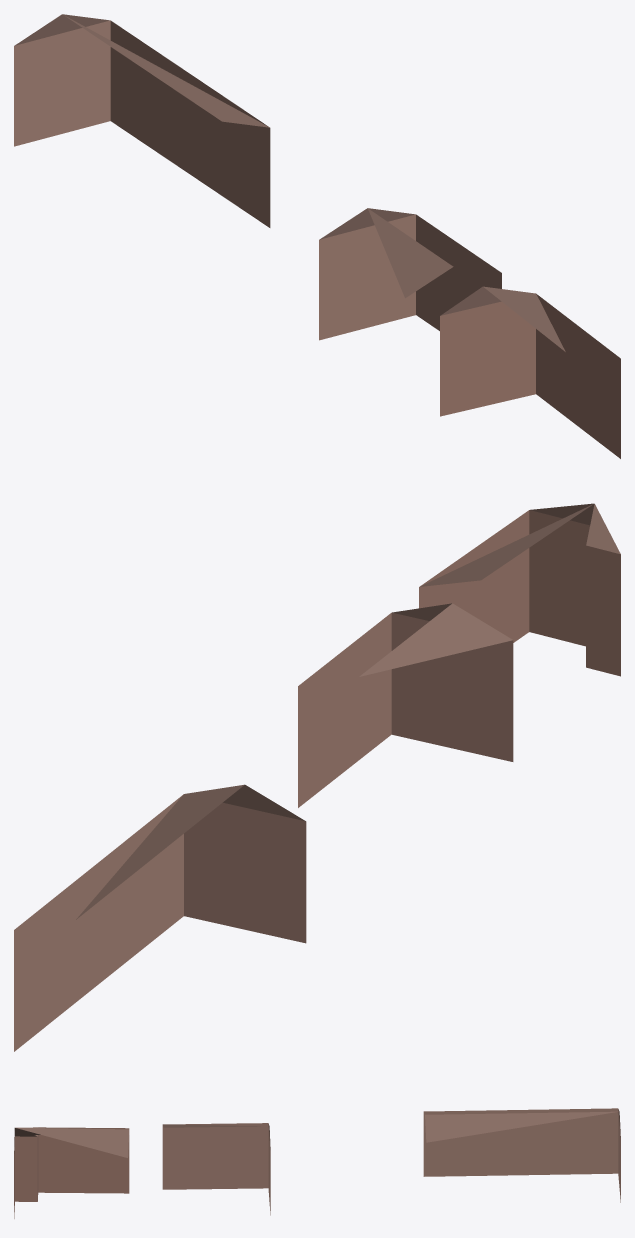
Rendered from c_1637_17819_buildings_residential.glb.
3 renders of one model, top to bottom at view 1: azimuth 30°, elevation 25°; view 2: azimuth 150°, elevation 25°; view 3: azimuth 270°, elevation 25°, orthographic. The views are drawn at different scales.
Parts seen in each view (by area): view 1: geometry_0; view 2: geometry_0; view 3: geometry_0.
Boxes of the visible parts, box(x1,y1,x2,y2) form: geometry_0: box(14, 14, 620, 458); geometry_0: box(14, 503, 620, 1051); geometry_0: box(14, 1108, 620, 1218).
Size of the model in its own units: 13.81 by 11.51 by 77.45.
